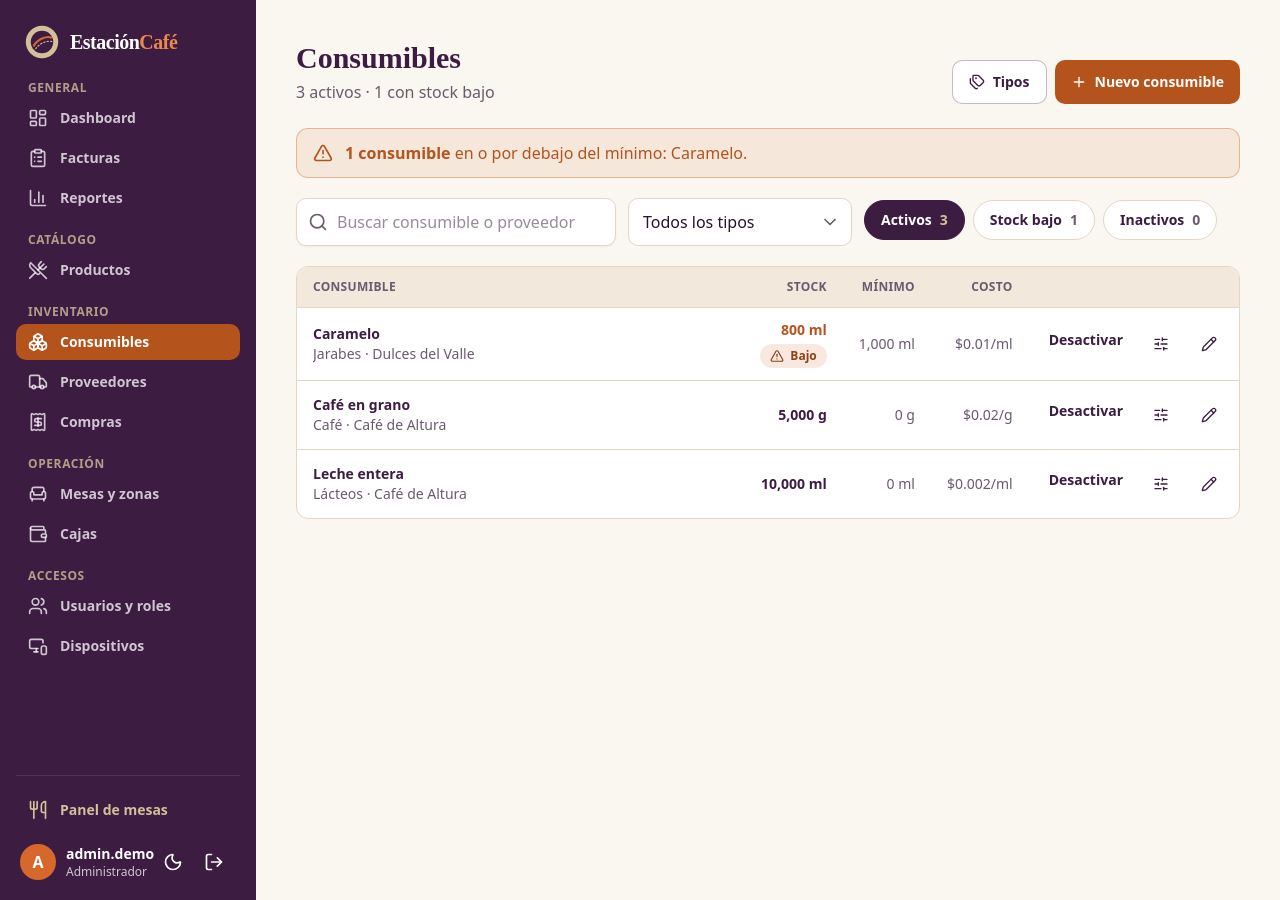
Test case: Inventario › avisa stock bajo y filtra por él
The width and height of the screenshot is (1280, 900).
Expected: the text "Bajo" is shown, [760,344,827,368]
Step 1. Click the button "1 consumible en o por debajo del mínimo: Caramelo." → (398, 153), box [296,128,1240,178]
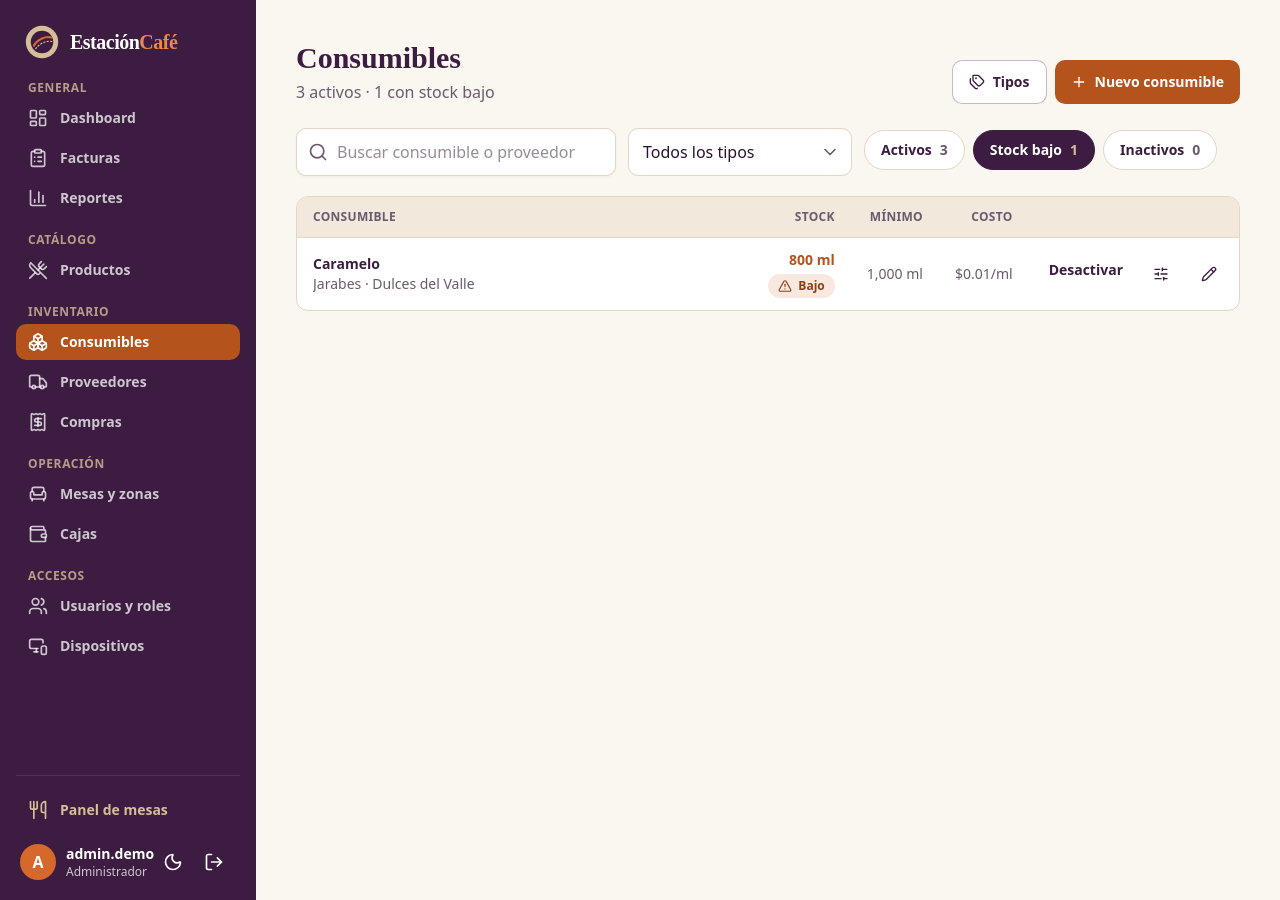
Expected: the text "Caramelo" is shown, [313,254,380,273]
Now the text "Café en grano" is gone
